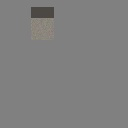supply_truck: (31, 7, 54, 40)
